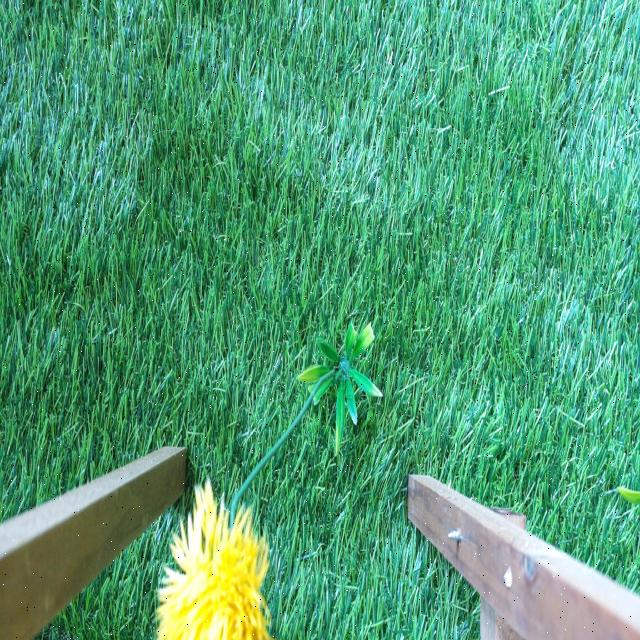base: (300, 317, 382, 447), (616, 478, 640, 508)
flower: (152, 484, 270, 640)
